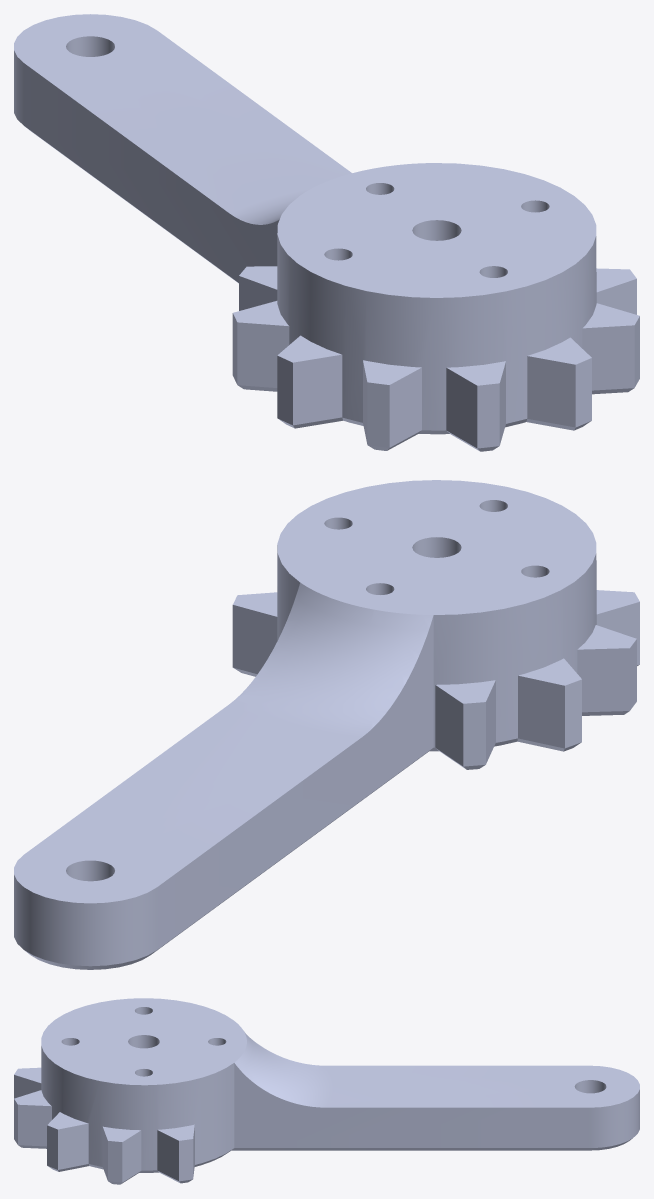
3 renders of one model, top to bottom at view 1: azimuth 30°, elevation 25°; view 2: azimuth 150°, elevation 25°; view 3: azimuth 270°, elevation 25°, orthographic. The views are drawn at different scales.
Visible parts, largest first — view 1: node0; view 2: node0; view 3: node0.
Boxes of the visible parts, <box> form: node0: <box>14,14,639,451</box>; node0: <box>14,480,639,969</box>; node0: <box>14,998,639,1184</box>.
Bounding box in the file's own units: 0.0265 × 0.01 × 0.0631.
